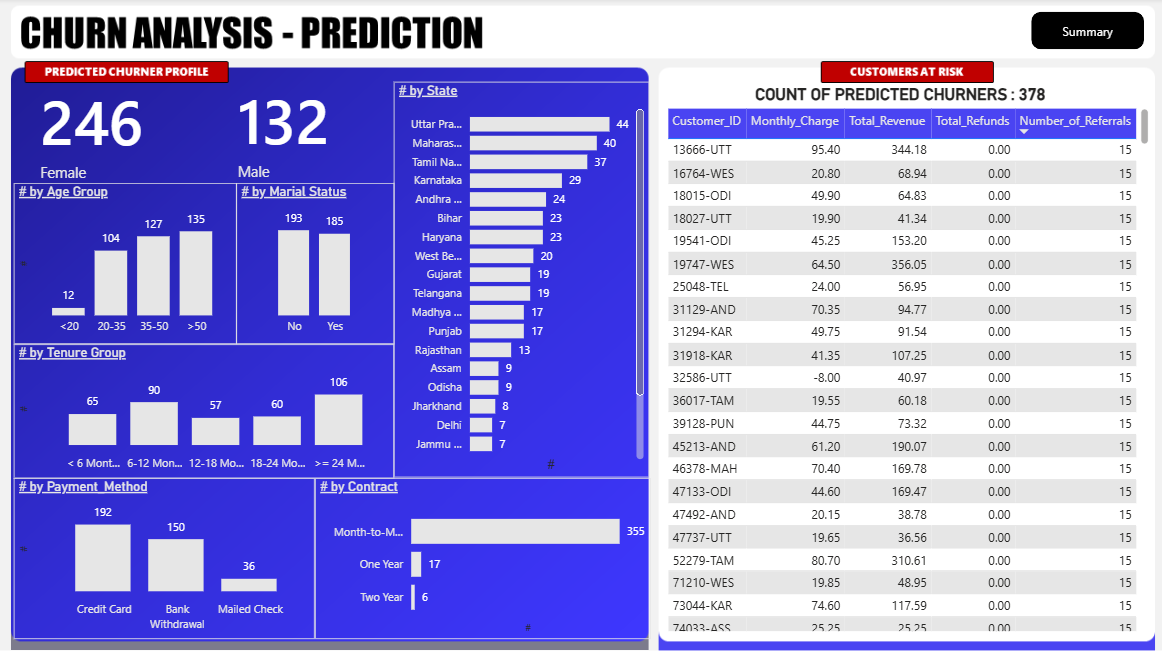

What the dashboard file says about the page in this screenshot:
{"tool":"powerbi","page":{"name":"Churn Prediction","canvas":[1280,720],"ordinal":2},"visuals":[{"type":"tableEx","fields":{"Values":["Sheet1.Customer_ID","Sheet1.Monthly_Charge","Sheet1.Total_Revenue","Sheet1.Total_Refunds","Sheet1.Number_of_Referrals"]},"box":[726.9,117.3,538.6,583.2],"z":0},{"type":"cardVisual","fields":{"Data":["tbl_Measures.Title Predicted Churner"]},"box":[799.6,77.6,394.8,52.9],"z":1000},{"type":"cardVisual","fields":{"Data":["tbl_Measures.Count Predicted Churner"]},"box":[14.9,69.4,231.3,152],"z":2000},{"type":"cardVisual","fields":{"Data":["tbl_Measures.Count Predicted Churner"]},"box":[231.3,72.7,201.5,143.7],"z":3000},{"type":"clusteredColumnChart","fields":{"Category":["mapping_AgeGrp.Age Group"],"Y":["CountNonNull(Sheet1.Customer_ID)"]},"box":[14.9,203.2,244.5,176.8],"z":4000},{"type":"clusteredColumnChart","fields":{"Y":["CountNonNull(Sheet1.Customer_ID)"],"Category":["Sheet1.Married"]},"box":[259.4,203.2,173.5,176.8],"z":5000},{"type":"clusteredColumnChart","fields":{"Y":["CountNonNull(Sheet1.Customer_ID)"],"Category":["mapping_TenureGrp.Tenure Group"]},"box":[14.9,380,418,147],"z":6000},{"type":"clusteredColumnChart","fields":{"Y":["CountNonNull(Sheet1.Customer_ID)"],"Category":["Sheet1.Payment_Method"]},"box":[14.9,527,330.4,176.8],"z":7000},{"type":"clusteredBarChart","fields":{"Category":["Sheet1.Contract"],"Y":["CountNonNull(Sheet1.Customer_ID)"]},"box":[345.3,527,368.4,176.8],"z":8000},{"type":"clusteredBarChart","fields":{"Y":["CountNonNull(Sheet1.Customer_ID)"],"Category":["Sheet1.State"]},"box":[432.8,92.5,280.8,434.5],"z":9000},{"type":"shape","box":[1131.7,14.9,123.9,41.3],"z":10000}]}

Visuals, with their boxes in screenshot pixels (x1, y1, x2, y2), scaled from the page's 1280x720 canvas onto the 1162x652 screenshot:
tableEx - Sheet1.Customer_ID x Sheet1.Monthly_Charge: (left=660, top=106, right=1149, bottom=634)
cardVisual - tbl_Measures.Title Predicted Churner: (left=726, top=70, right=1084, bottom=118)
cardVisual - tbl_Measures.Count Predicted Churner: (left=14, top=63, right=224, bottom=200)
cardVisual - tbl_Measures.Count Predicted Churner: (left=210, top=66, right=393, bottom=196)
clusteredColumnChart - mapping_AgeGrp.Age Group x CountNonNull(Sheet1.Customer_ID): (left=14, top=184, right=235, bottom=344)
clusteredColumnChart - CountNonNull(Sheet1.Customer_ID) x Sheet1.Married: (left=235, top=184, right=393, bottom=344)
clusteredColumnChart - CountNonNull(Sheet1.Customer_ID) x mapping_TenureGrp.Tenure Group: (left=14, top=344, right=393, bottom=477)
clusteredColumnChart - CountNonNull(Sheet1.Customer_ID) x Sheet1.Payment_Method: (left=14, top=477, right=313, bottom=637)
clusteredBarChart - Sheet1.Contract x CountNonNull(Sheet1.Customer_ID): (left=313, top=477, right=648, bottom=637)
clusteredBarChart - CountNonNull(Sheet1.Customer_ID) x Sheet1.State: (left=393, top=84, right=648, bottom=477)
shape: (left=1027, top=13, right=1140, bottom=51)
